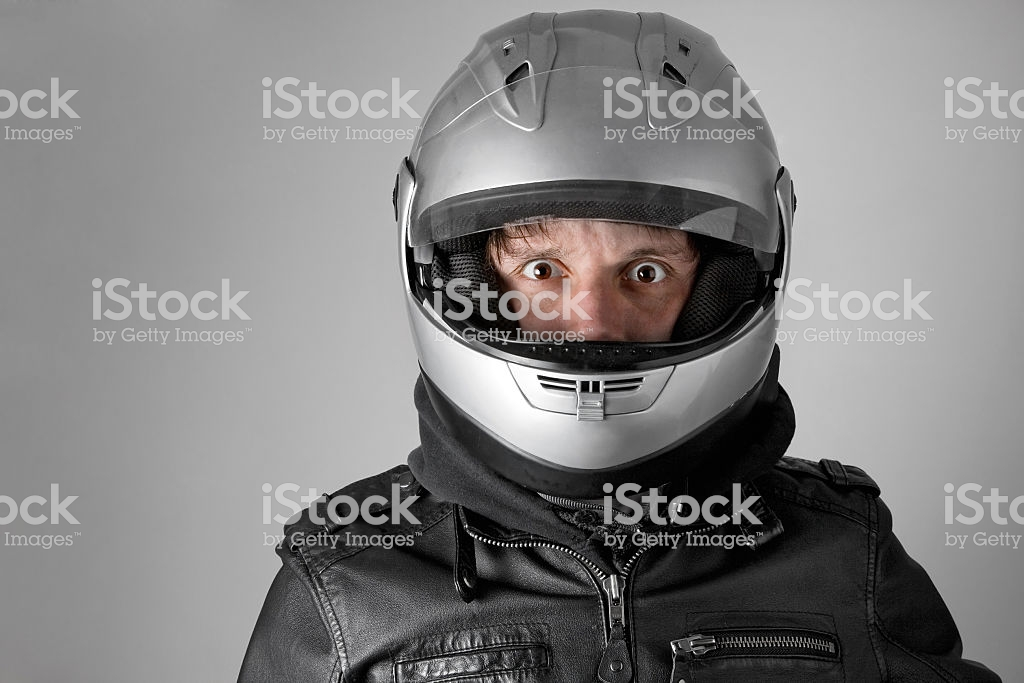helmet: (373, 22, 816, 459)
